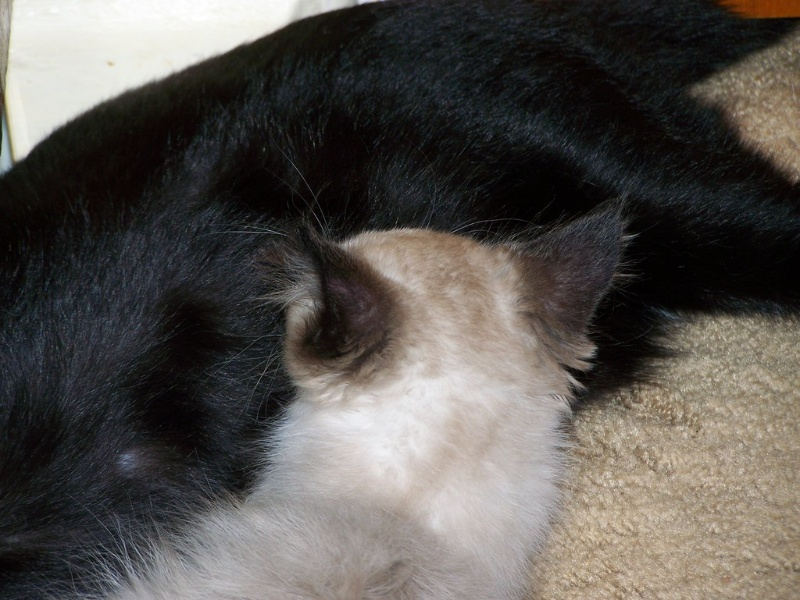cat: (65, 195, 669, 584)
